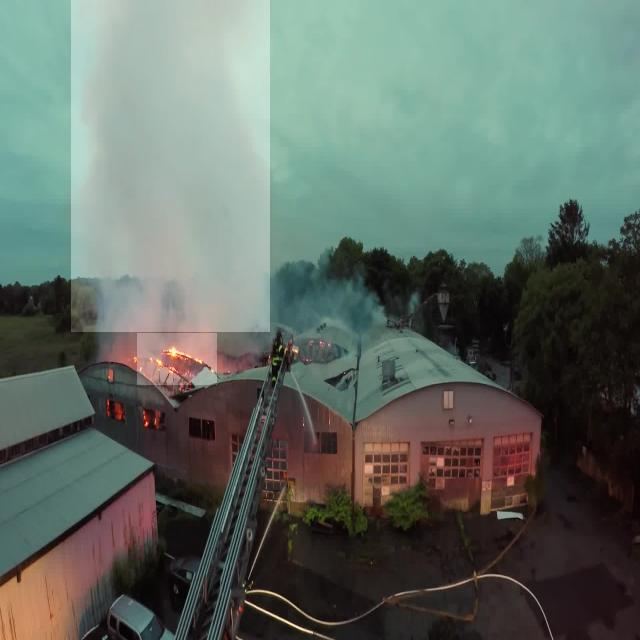Fire: (137, 334, 217, 386)
Smoke: (71, 0, 270, 332)
